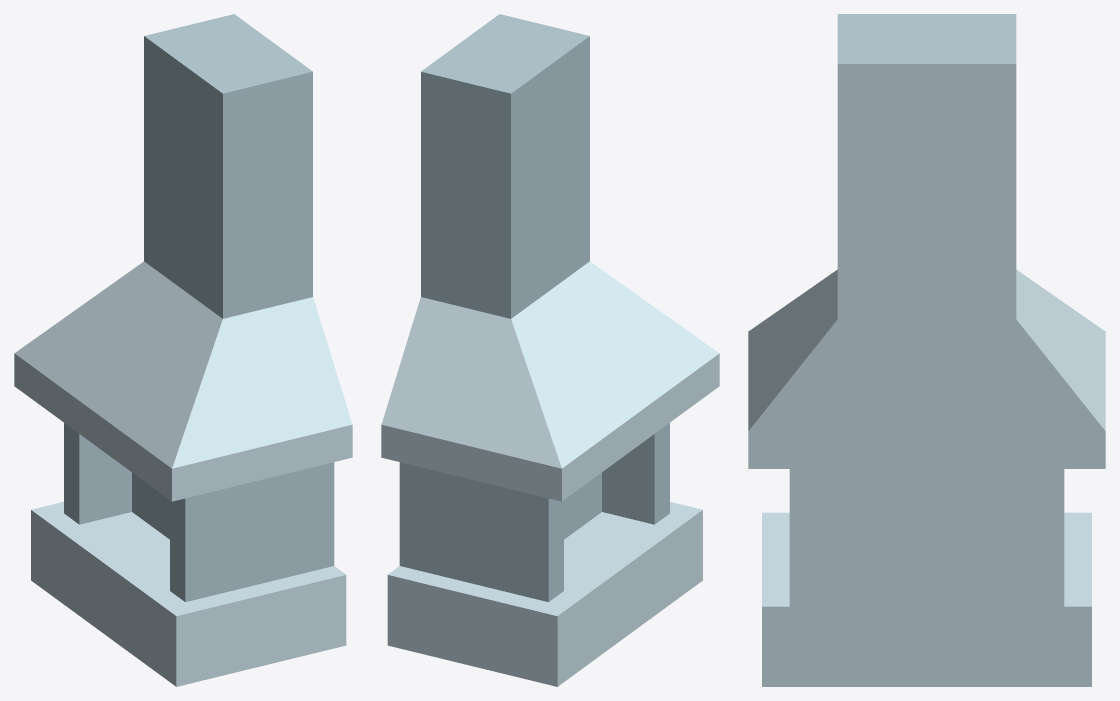
The picture shows the model from 3 angles, left to right: view 1: azimuth 30°, elevation 25°; view 2: azimuth 150°, elevation 25°; view 3: azimuth 270°, elevation 25°; orthographic projection. The views are drawn at different scales.
Visible parts, largest first — view 1: chimneyBase; view 2: chimneyBase; view 3: chimneyBase.
Boxes of the visible parts, box(x1,y1,x2,y2) form: chimneyBase: box(14, 14, 352, 686); chimneyBase: box(381, 14, 719, 686); chimneyBase: box(748, 14, 1105, 686).
Size of the model in its own units: 0.3438 by 1 by 0.52.
